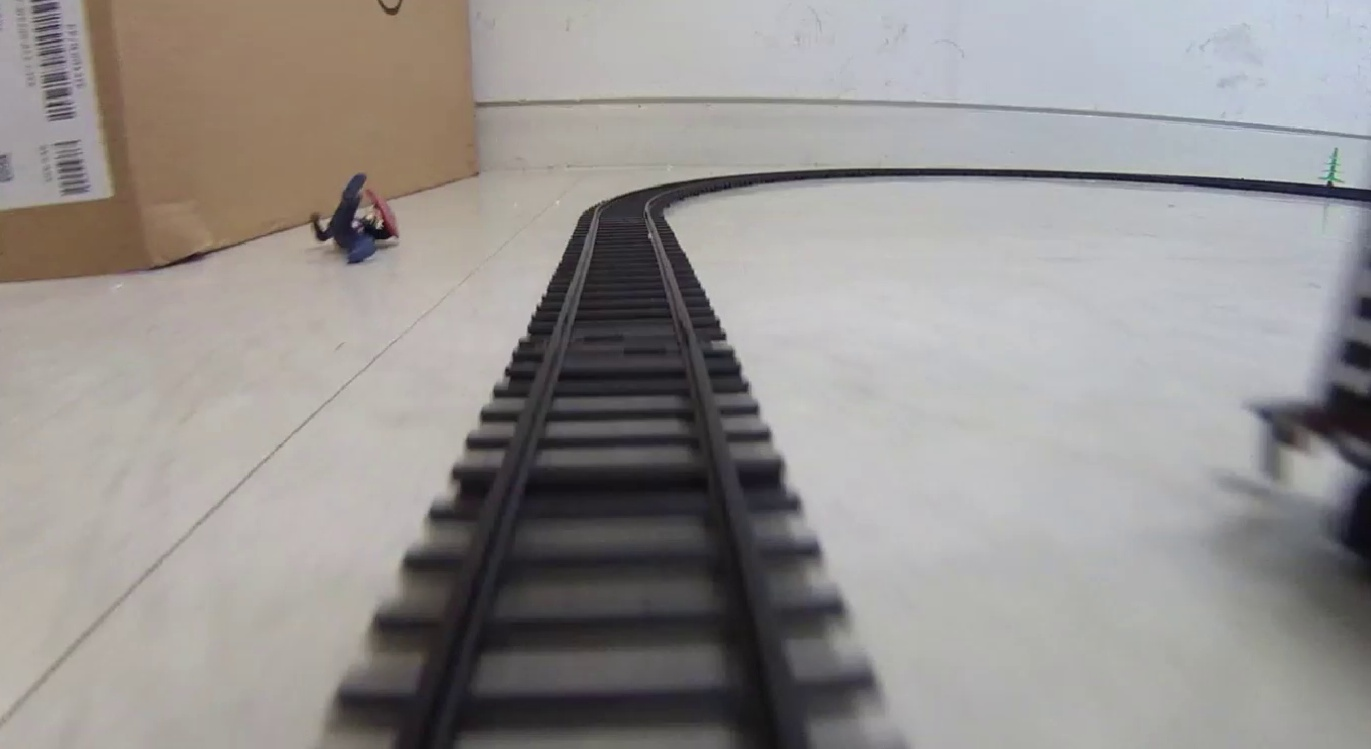people: (309, 172, 405, 266)
